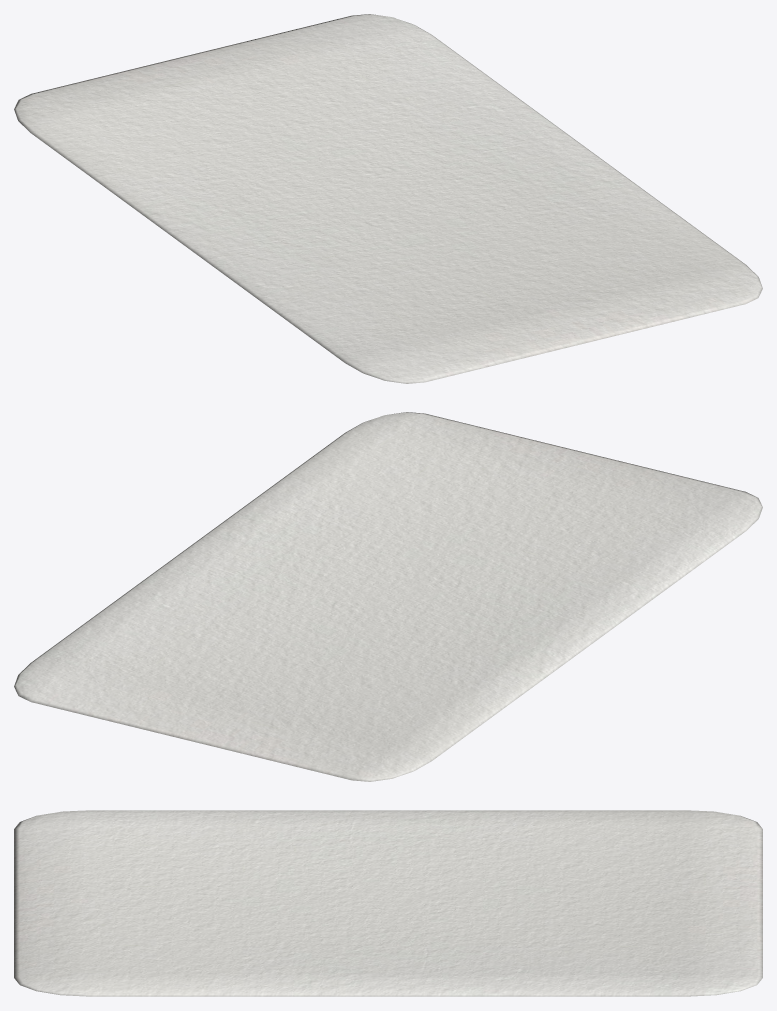
File: Pictures_cube.fbx
3 views of the same model, one above another, from view 1: azimuth 30°, elevation 25°; view 2: azimuth 150°, elevation 25°; view 3: azimuth 270°, elevation 25° (orthographic). The views are drawn at different scales.
Parts seen in each view (by area): view 1: Cube; view 2: Cube; view 3: Cube.
Part boxes in pixels (<box>): Cube: <box>14,14,762,383</box>; Cube: <box>14,412,762,781</box>; Cube: <box>14,810,762,996</box>.
Bounding box in the file's own units: 100 × 1.01 × 170.
